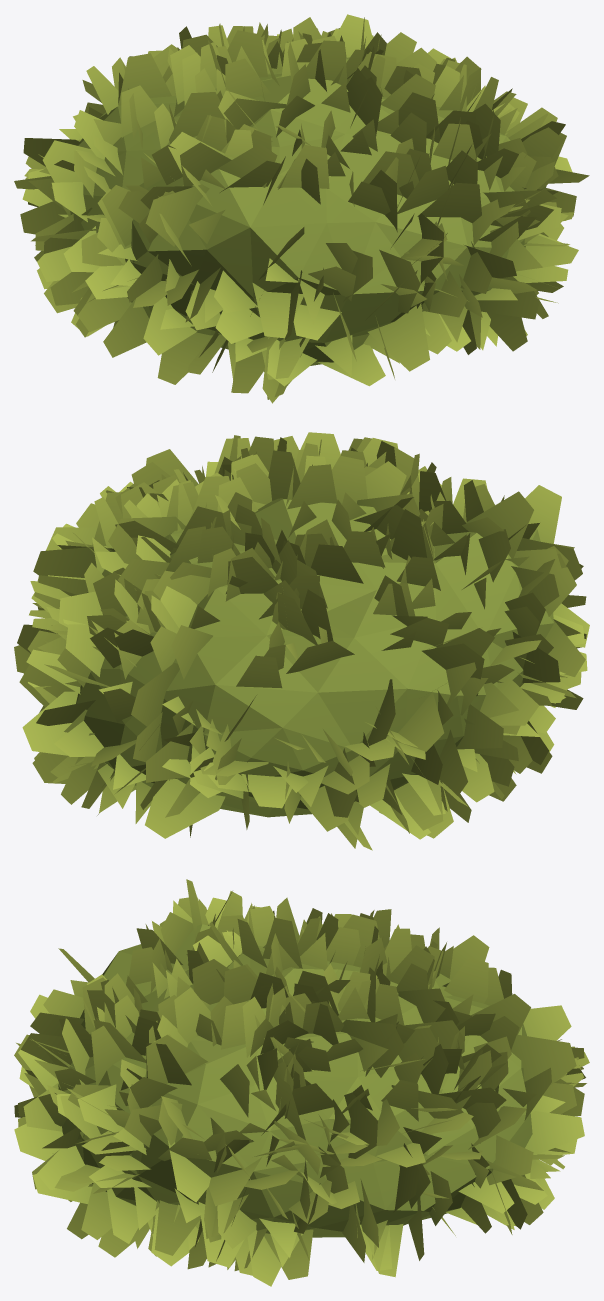
The model's file is Plant_12.fbx.
3 views of the same model, one above another, from view 1: azimuth 30°, elevation 25°; view 2: azimuth 150°, elevation 25°; view 3: azimuth 270°, elevation 25° (orthographic). The views are drawn at different scales.
Visible parts, largest first — view 1: Plant_12_LOD0; view 2: Plant_12_LOD0; view 3: Plant_12_LOD0.
Boxes of the visible parts, box(x1,y1,x2,y2) form: Plant_12_LOD0: box(14, 14, 589, 403); Plant_12_LOD0: box(14, 432, 589, 850); Plant_12_LOD0: box(14, 879, 589, 1286).
Size of what is drawn, in the model's own units: 1 by 0.5309 by 1.03.
